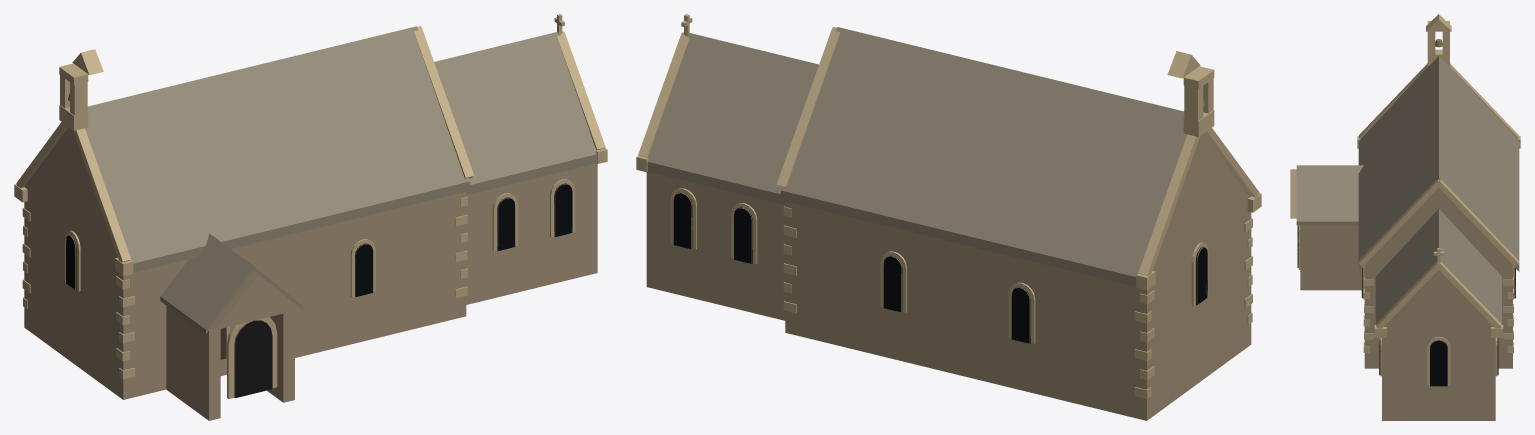
Rendered from context.church.cots_bellcote.glb.
3 renders of one model, left to right at view 1: azimuth 30°, elevation 25°; view 2: azimuth 150°, elevation 25°; view 3: azimuth 270°, elevation 25°, orthographic. The views are drawn at different scales.
Parts seen in each view (by area): view 1: main__clad_987, main__stone_a97, main__stone_ca8, main__glass_dark, main__timber_111, main__stone_986; view 2: main__clad_987, main__stone_a97, main__stone_ca8, main__glass_dark, main__stone_986; view 3: main__clad_987, main__stone_a97, main__stone_ca8, main__glass_dark, main__stone_986.
Part boxes in pixels (x1=…): main__clad_987: x1=25, y1=26, x2=600, y2=334; main__stone_a97: x1=24, y1=127, x2=597, y2=420; main__stone_ca8: x1=14, y1=14, x2=607, y2=398; main__glass_dark: x1=66, y1=183, x2=572, y2=296; main__timber_111: x1=235, y1=320, x2=272, y2=397; main__stone_986: x1=65, y1=183, x2=572, y2=397; main__clad_987: x1=645, y1=27, x2=1250, y2=286; main__stone_a97: x1=646, y1=133, x2=1251, y2=420; main__stone_ca8: x1=636, y1=14, x2=1261, y2=398; main__glass_dark: x1=673, y1=193, x2=1207, y2=343; main__stone_986: x1=673, y1=193, x2=1207, y2=343; main__clad_987: x1=1296, y1=56, x2=1519, y2=326; main__stone_a97: x1=1290, y1=169, x2=1512, y2=420; main__stone_ca8: x1=1299, y1=14, x2=1520, y2=385; main__glass_dark: x1=1362, y1=268, x2=1515, y2=386; main__stone_986: x1=1297, y1=225, x2=1515, y2=375.
Size of the model in its own units: 17.42 by 10.35 by 9.3.
